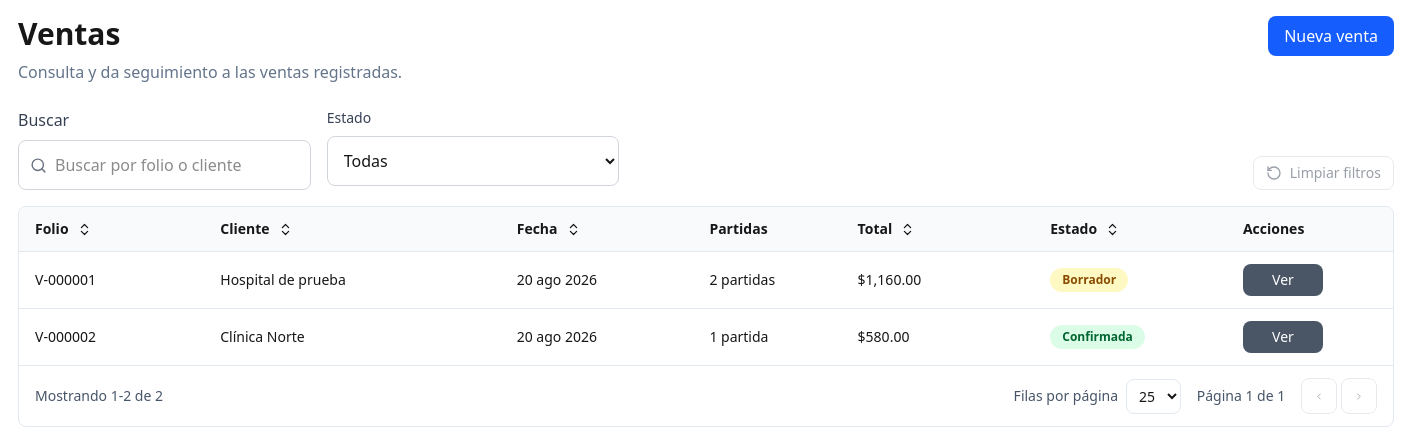
Scenario: SalesPage › busca por folio preservando los registros coincidentes
Check: the text "V-000001" is shown, box [19,252,204,308]
Type "000002" into the search field labelled "Buscar". click: (164, 165)
box: [18,140,311,190]
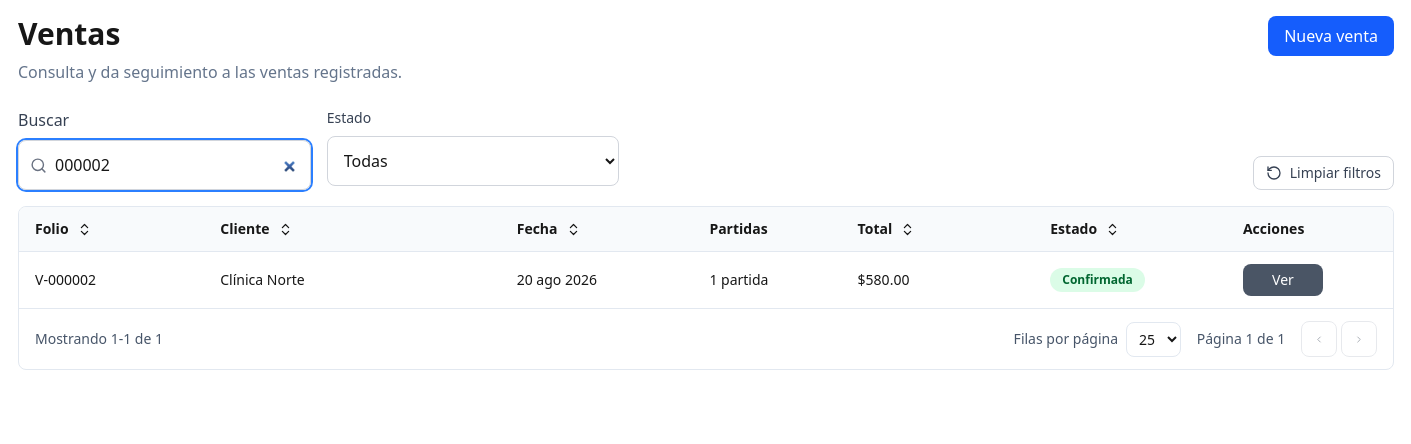
Check: the text "V-000002" is shown, box [19,252,204,308]
Check: the text "V-000001" is gone
